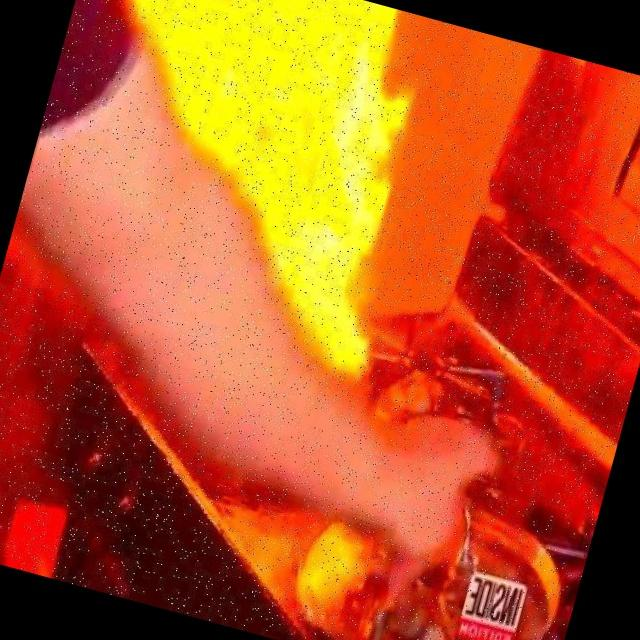fire: (56, 0, 456, 393)
